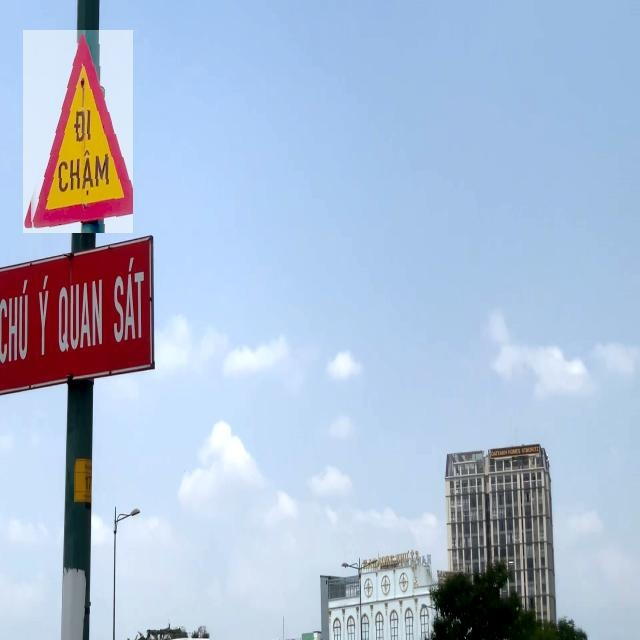bien_nguy_hiem: (23, 30, 133, 233)
